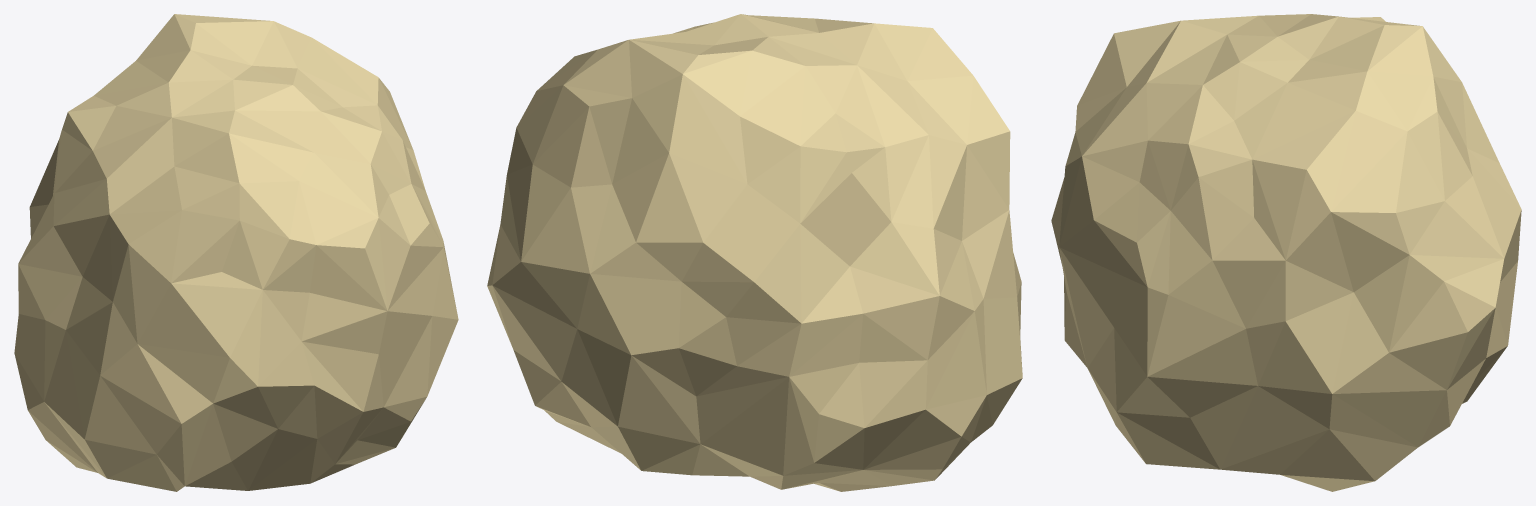
File: Asteroid (108).fbx
The picture shows the model from 3 angles, left to right: view 1: azimuth 30°, elevation 25°; view 2: azimuth 150°, elevation 25°; view 3: azimuth 270°, elevation 25°; orthographic projection. The views are drawn at different scales.
Parts seen in each view (by area): view 1: Asteroid125; view 2: Asteroid125; view 3: Asteroid125.
Boxes of the visible parts, x1,y1,x2,y2 form: Asteroid125: (14, 14, 458, 491); Asteroid125: (487, 14, 1022, 491); Asteroid125: (1051, 14, 1521, 491).
Bounding box in the file's own units: 286 × 284 × 281.
